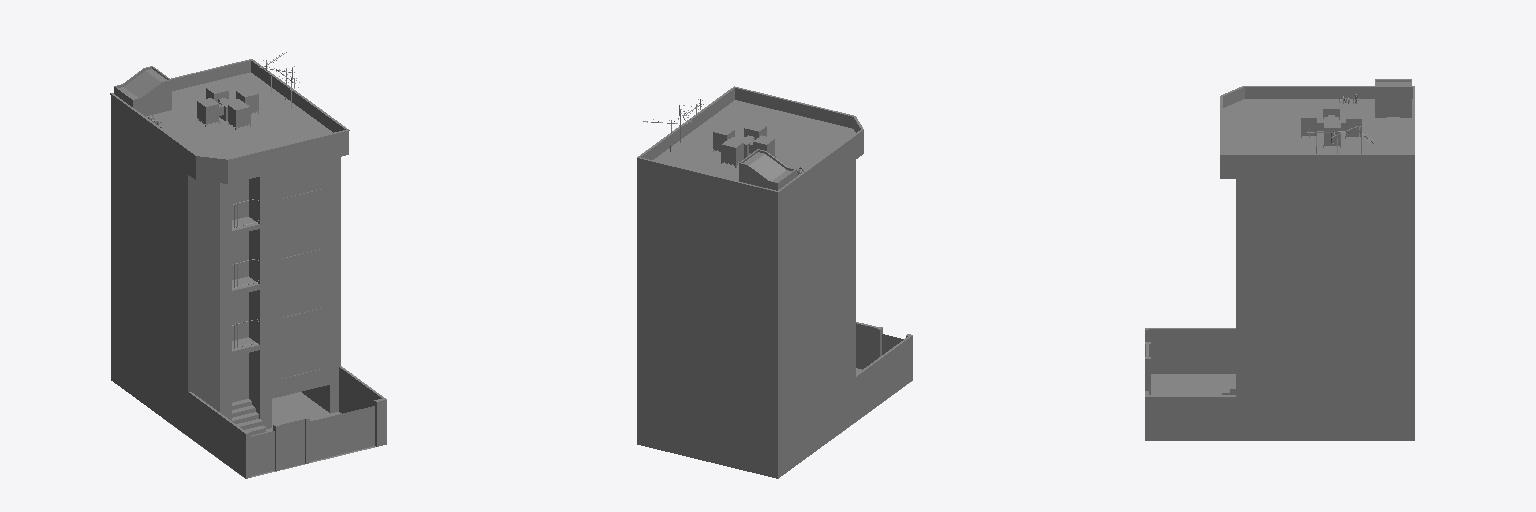
File: Building.obj
3 renders of one model, left to right at view 1: azimuth 30°, elevation 25°; view 2: azimuth 150°, elevation 25°; view 3: azimuth 270°, elevation 25°, orthographic.
Parts seen in each view (by area): view 1: Building00, Building01, Building07, Building03, Building10, Building02, Building08, Building09; view 2: Building00, Building01, Building10, Building03; view 3: Building00, Building01, Building10, Building02, Building03.
Boxes of the visible parts, x1,y1,x2,y2 form: Building00: [110, 59, 349, 435]; Building01: [188, 366, 386, 478]; Building07: [310, 406, 374, 461]; Building03: [114, 66, 171, 116]; Building10: [197, 85, 258, 129]; Building02: [164, 392, 375, 477]; Building08: [251, 431, 274, 475]; Building09: [232, 396, 266, 436]; Building00: [637, 86, 863, 478]; Building01: [856, 322, 912, 421]; Building10: [713, 122, 775, 167]; Building03: [739, 149, 796, 190]; Building00: [1220, 86, 1414, 440]; Building01: [1145, 328, 1236, 440]; Building10: [1301, 102, 1361, 147]; Building02: [1151, 374, 1235, 394]; Building03: [1375, 79, 1411, 117].
Bounding box in the file's own units: 2548 × 4820 × 3826.